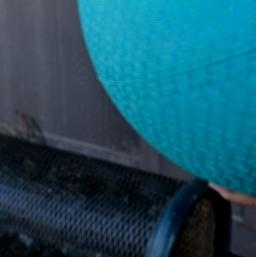algae: (74, 0, 256, 198)
